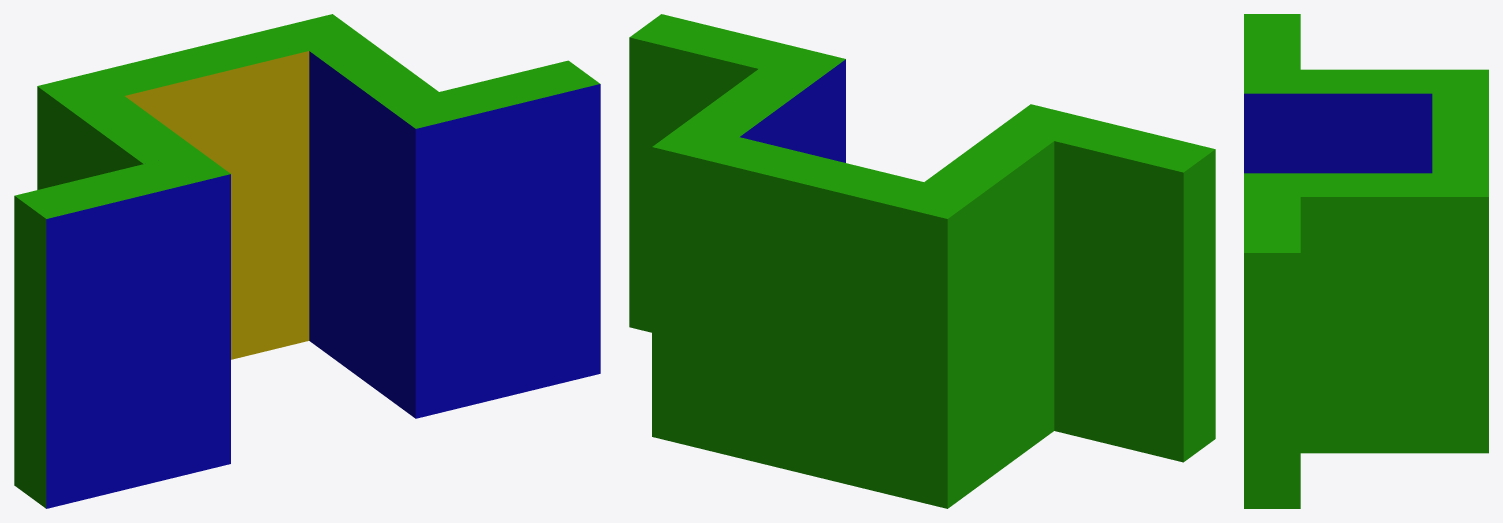
The model's file is octagon_wall_alcoves.fbx.
3 views of the same model, side by side, from view 1: azimuth 30°, elevation 25°; view 2: azimuth 150°, elevation 25°; view 3: azimuth 270°, elevation 25° (orthographic). The views are drawn at different scales.
Visible parts, largest first — view 1: Cube.002; view 2: Cube.002; view 3: Cube.002.
Part boxes in pixels (box(x1,y1,x2,y2)): Cube.002: box(14, 14, 600, 508); Cube.002: box(629, 14, 1215, 508); Cube.002: box(1244, 14, 1488, 508).
Bounding box in the file's own units: 10 × 5 × 4.33.
